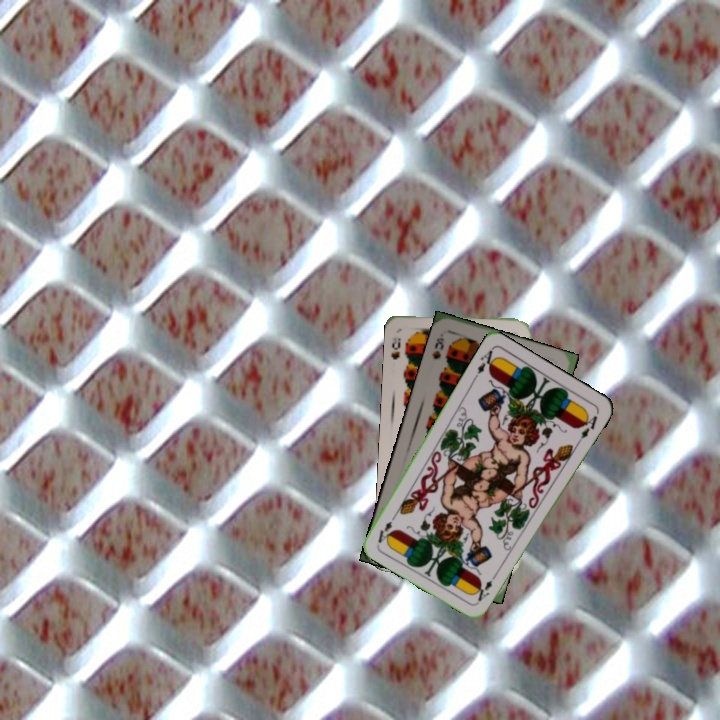EA: (470, 346, 500, 382), (473, 568, 500, 604)
S8: (428, 329, 447, 362), (387, 333, 403, 362)
